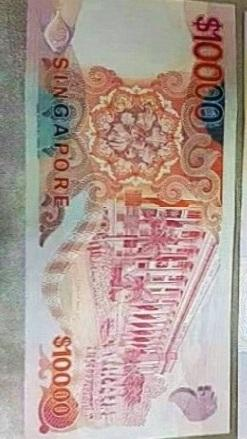10000SingaporeDollar: (28, 0, 229, 439)
